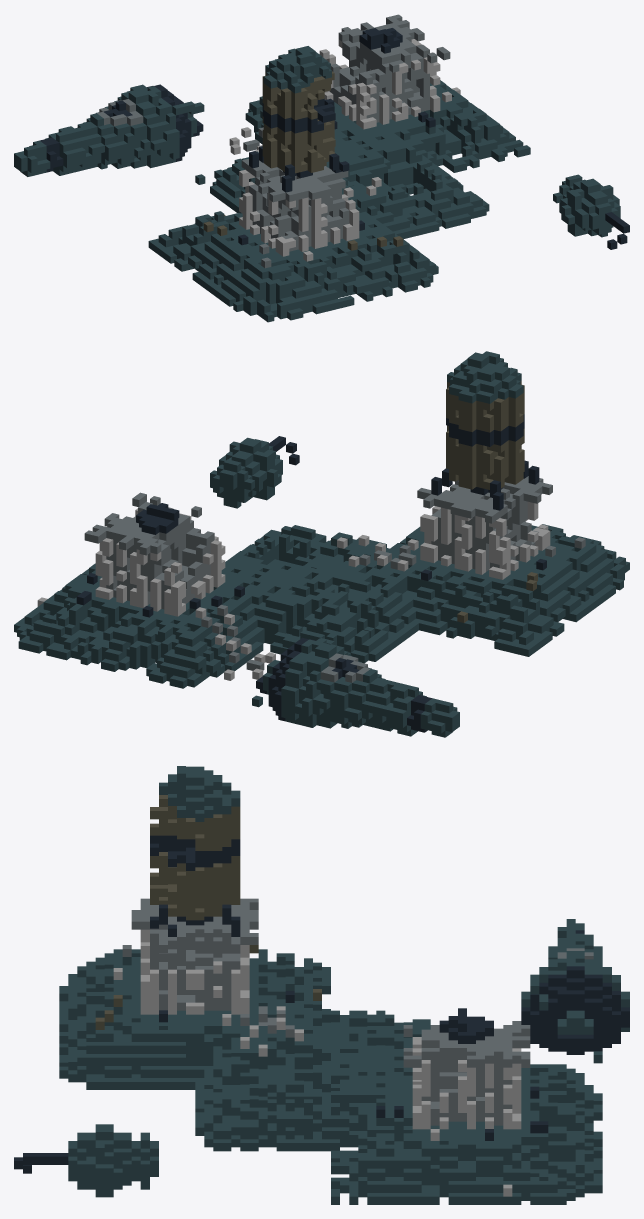
Rendered from capsule_statue_destroyed.obj.
3 views of the same model, one above another, from view 1: azimuth 30°, elevation 25°; view 2: azimuth 150°, elevation 25°; view 3: azimuth 270°, elevation 25° (orthographic). The views are drawn at different scales.
Bounding box in the file's own units: 6.5 × 3.2 × 6.8.
Materials: 1 (1 with a texture image).
